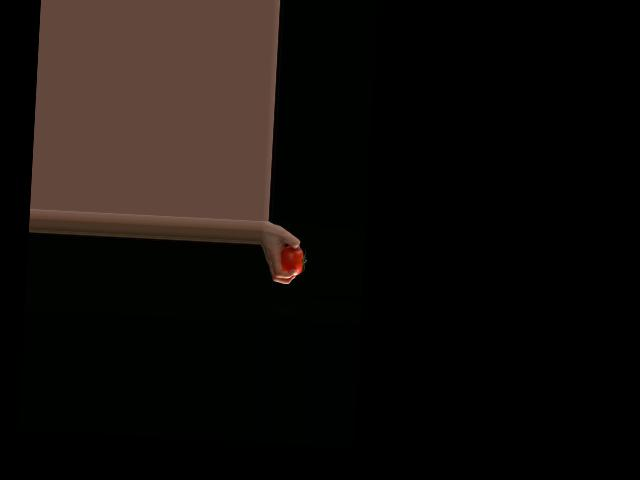tomato: (280, 245, 306, 275)
